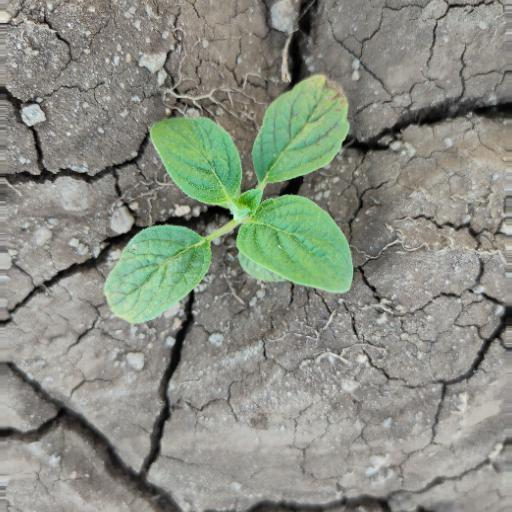crop: (93, 71, 369, 336)
